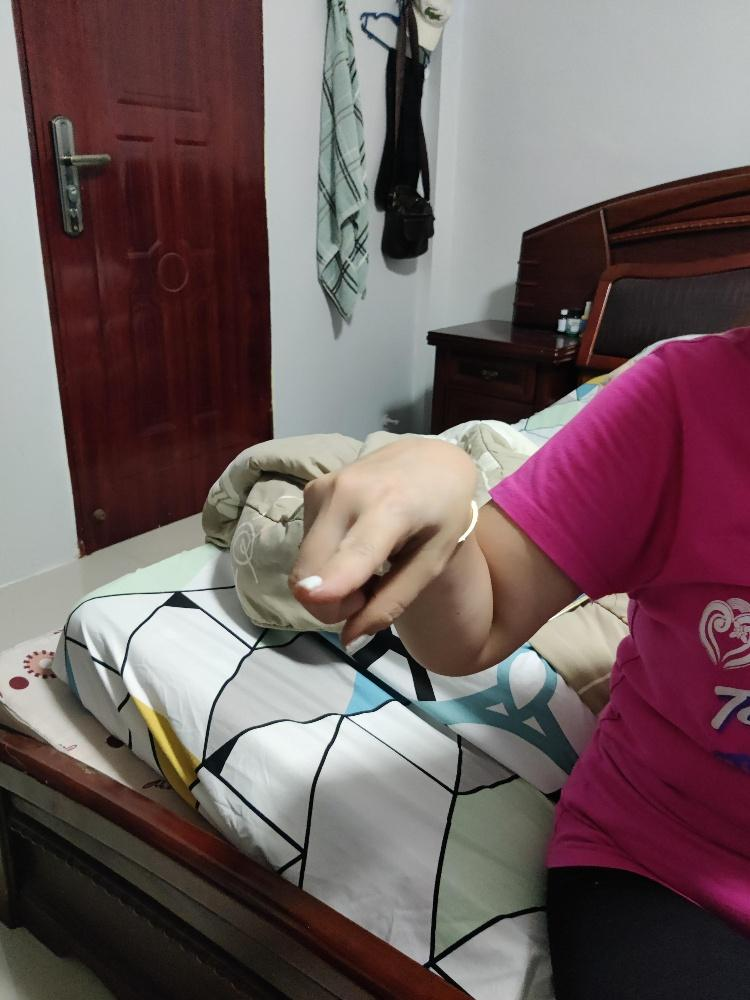z: (286, 434, 473, 658)
